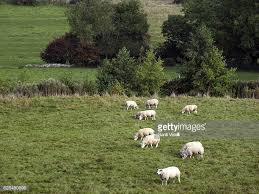sheep: (178, 140, 205, 163), (157, 166, 183, 187), (133, 126, 156, 142), (140, 134, 161, 149), (135, 109, 149, 125), (143, 107, 160, 120), (181, 104, 199, 116), (123, 98, 140, 110), (145, 98, 160, 109)
